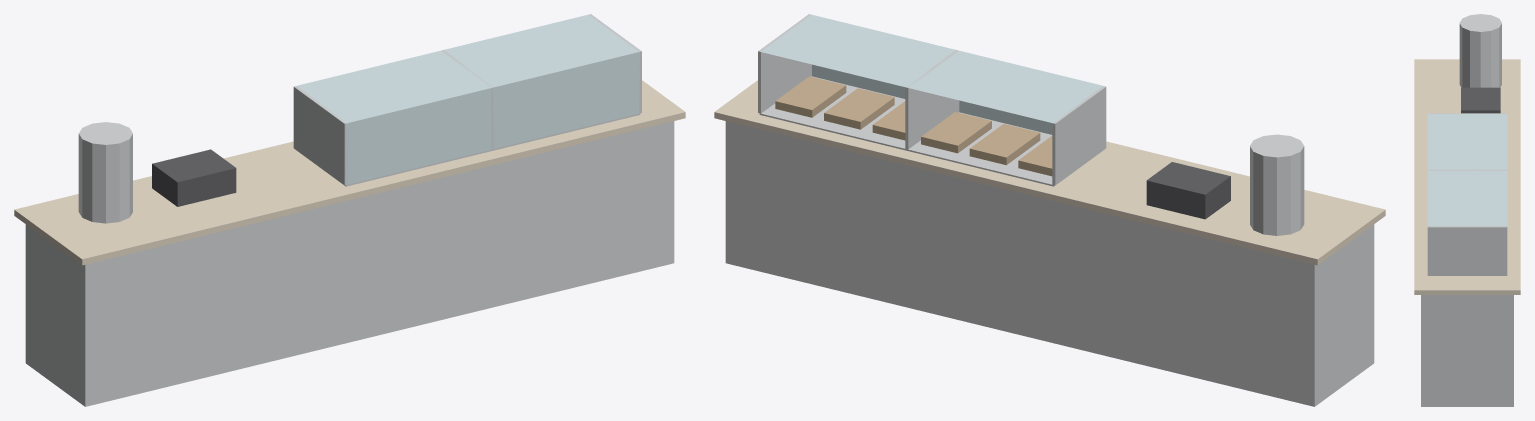
File: Cafe_Counter.fbx
The picture shows the model from 3 angles, left to right: view 1: azimuth 30°, elevation 25°; view 2: azimuth 150°, elevation 25°; view 3: azimuth 270°, elevation 25°; orthographic projection. The views are drawn at different scales.
Parts seen in each view (by area): view 1: Cafe_Counter; view 2: Cafe_Counter; view 3: Cafe_Counter.
Part boxes in pixels (x1,y1,x2,y2): Cafe_Counter: (14,14,685,406); Cafe_Counter: (714,14,1385,406); Cafe_Counter: (1414,14,1520,406).
Bounding box in the file's own units: 4.1 × 1.5 × 0.8.
